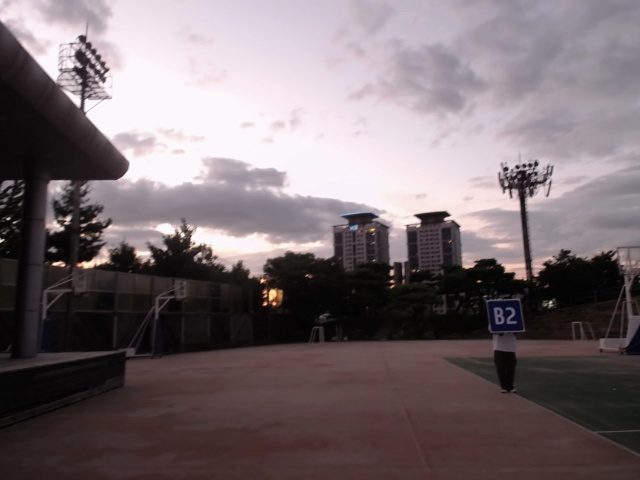delivery_b2: (485, 297, 525, 333)
